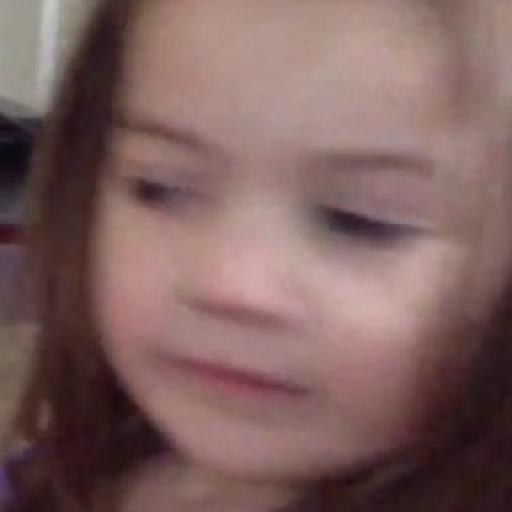Autism: (77, 26, 512, 509)
